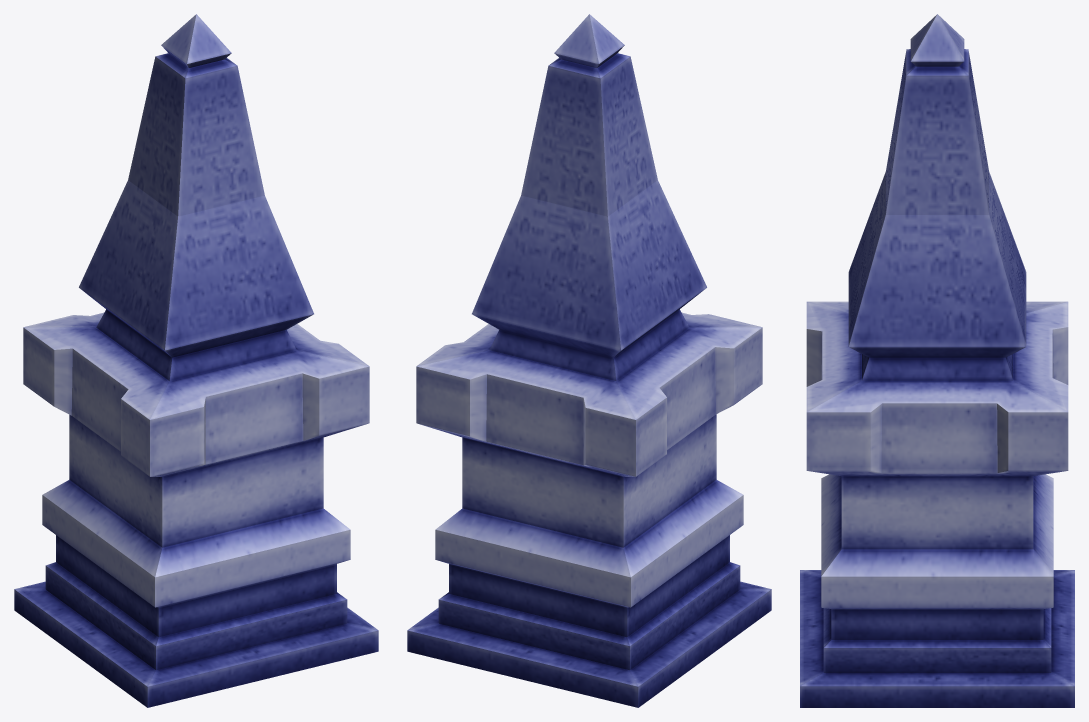
Rendered from a_SWAteam_b.glb.
The picture shows the model from 3 angles, left to right: view 1: azimuth 30°, elevation 25°; view 2: azimuth 150°, elevation 25°; view 3: azimuth 270°, elevation 25°; orthographic projection. The views are drawn at different scales.
Visible parts, largest first — view 1: a_SWAteam_b; view 2: a_SWAteam_b; view 3: a_SWAteam_b.
Part boxes in pixels (x1=…): a_SWAteam_b: x1=14, y1=14, x2=378, y2=707; a_SWAteam_b: x1=407, y1=14, x2=771, y2=707; a_SWAteam_b: x1=800, y1=14, x2=1074, y2=707.
Bounding box in the file's own units: 0.6936 × 1.77 × 0.6932.
Materials: 1 (1 with a texture image).
